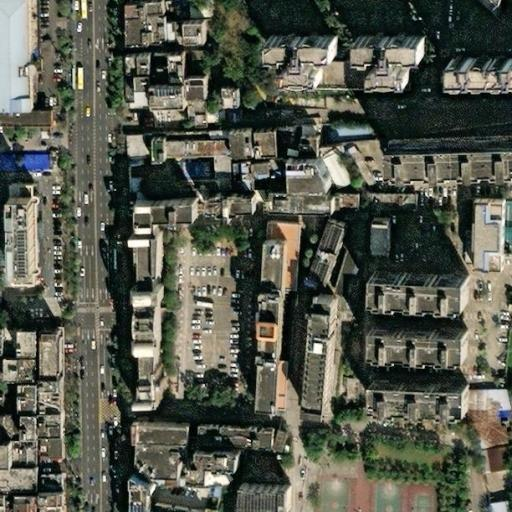building: (130, 201, 151, 399), (382, 137, 512, 168), (301, 306, 332, 422), (361, 325, 460, 359), (362, 379, 460, 409), (262, 33, 327, 77), (350, 30, 414, 74), (360, 273, 457, 301), (127, 426, 178, 479), (307, 225, 349, 289), (4, 196, 30, 276), (467, 199, 496, 270), (195, 429, 276, 454), (147, 140, 219, 164), (254, 297, 277, 366), (324, 249, 357, 296), (184, 455, 231, 486), (282, 201, 345, 223), (450, 58, 512, 80), (0, 103, 52, 129), (231, 168, 285, 192), (292, 164, 332, 196), (475, 423, 501, 472), (226, 486, 281, 508), (256, 246, 279, 298), (364, 186, 419, 207), (252, 365, 274, 417), (132, 58, 169, 88), (215, 204, 278, 221), (0, 149, 51, 170), (453, 199, 468, 265), (329, 119, 373, 139), (475, 388, 500, 423), (466, 119, 512, 138), (158, 88, 195, 110), (2, 357, 37, 380), (37, 330, 55, 374), (35, 390, 63, 418), (34, 447, 61, 476), (258, 225, 293, 247), (7, 470, 34, 496), (6, 447, 34, 470), (213, 157, 231, 192), (121, 7, 138, 44), (151, 201, 187, 218), (264, 136, 286, 163), (247, 457, 280, 475), (34, 476, 61, 497), (14, 390, 35, 417), (16, 330, 37, 357), (238, 136, 259, 163), (6, 417, 23, 447), (41, 418, 63, 441), (120, 136, 138, 164), (377, 229, 394, 258), (23, 417, 41, 443), (178, 58, 193, 88), (124, 484, 140, 512), (143, 81, 158, 110), (40, 496, 66, 512), (193, 83, 214, 102), (130, 193, 179, 201), (182, 20, 204, 37), (17, 496, 40, 512), (494, 484, 512, 503), (306, 143, 323, 161), (4, 184, 28, 196), (164, 167, 190, 178), (228, 92, 245, 108), (124, 179, 140, 193), (5, 276, 30, 284)
